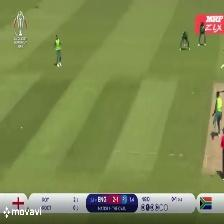ball: (19, 123, 27, 132)
